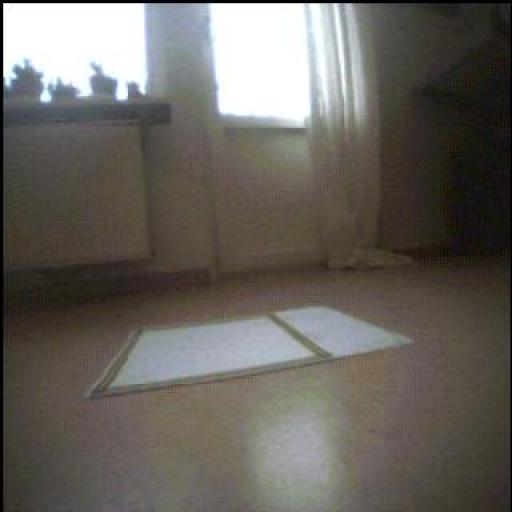Pad: (89, 308, 411, 398)
